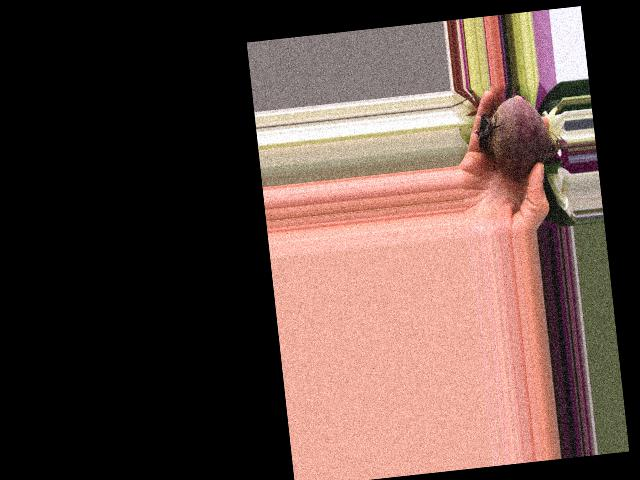beet: (471, 91, 570, 180)
